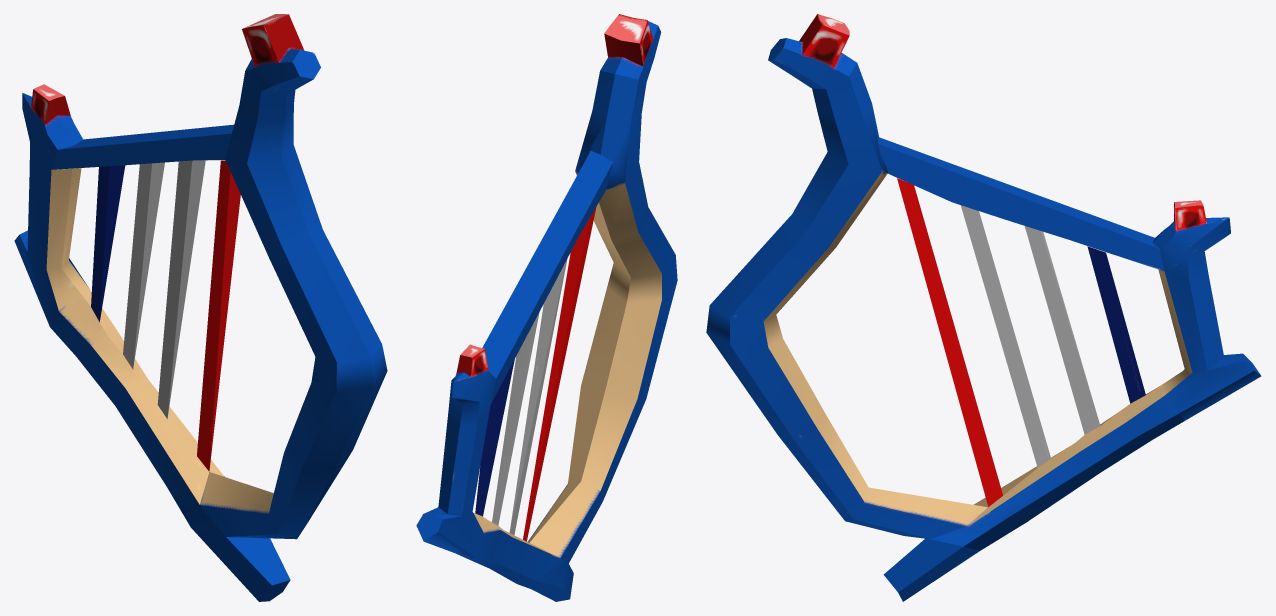
File: Arpa2_000003.obj
3 renders of one model, left to right at view 1: azimuth 30°, elevation 25°; view 2: azimuth 150°, elevation 25°; view 3: azimuth 270°, elevation 25°, orthographic. The views are drawn at different scales.
Parts seen in each view (by area): view 1: a2_Arpa_1:pCube7; view 2: a2_Arpa_1:pCube7; view 3: a2_Arpa_1:pCube7.
Boxes of the visible parts, box(x1,y1,x2,y2) form: a2_Arpa_1:pCube7: box(14, 14, 387, 601); a2_Arpa_1:pCube7: box(416, 14, 677, 601); a2_Arpa_1:pCube7: box(706, 14, 1261, 601).
Size of the model in its own units: 1.39 by 8.27 by 7.36.
